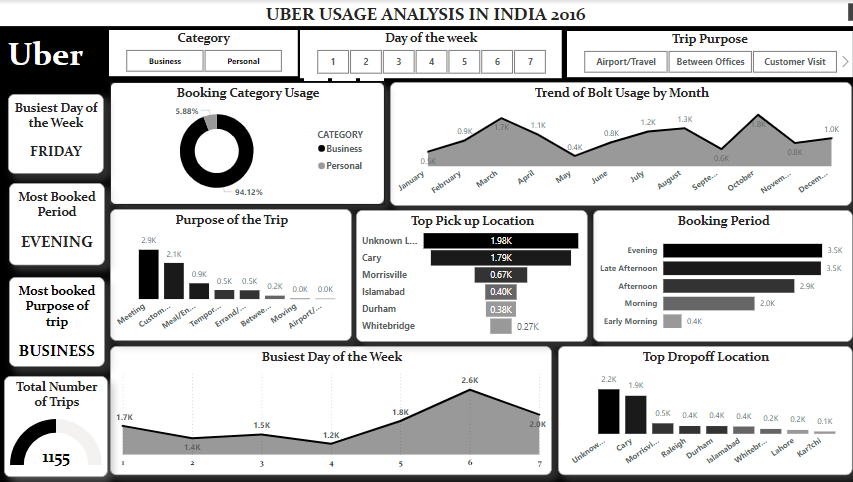

The dashboard page shown, as its layout file describes it:
{"tool":"powerbi","page":{"name":"Page 1","canvas":[1280,720],"ordinal":0},"visuals":[{"type":"lineChart","title":"Trend of Bolt Usage by Month","fields":{"Category":["UberDataset.START_DATE.1.Variation.Date Hierarchy.Month"],"Y":["Sum(UberDataset.MILES)"]},"box":[582.9,122.6,690.4,184.8],"z":0},{"type":"lineChart","title":"Busiest Day of the Week","fields":{"Y":["Sum(UberDataset.MILES)"],"Category":["UberDataset.Day_of_the_week"]},"box":[164.6,517.4,660.2,193.2],"z":1000},{"type":"donutChart","title":"Booking Category Usage","fields":{"Y":["Sum(UberDataset.MILES)"],"Category":["UberDataset.CATEGORY"]},"box":[164.6,122.6,409.9,183.1],"z":2000},{"type":"columnChart","title":"Purpose of the Trip","fields":{"Category":["UberDataset.PURPOSE"],"Y":["Sum(UberDataset.MILES)"]},"box":[164.6,312.4,361.2,196.5],"z":3000},{"type":"barChart","title":"Booking Period","fields":{"Category":["UberDataset.Trip_period"],"Y":["Sum(UberDataset.MILES)"]},"box":[885.2,314.1,388,196.5],"z":4000},{"type":"funnel","title":"Top Pick up Location","fields":{"Category":["UberDataset.START"],"Y":["Sum(UberDataset.MILES)"]},"box":[532.5,314.1,346,196.5],"z":5000},{"type":"lineStackedColumnComboChart","title":"Top Dropoff Location","fields":{"Category":["UberDataset.STOP"],"Y":["Sum(UberDataset.MILES)"]},"box":[833.2,517.4,440.1,193.2],"z":6000},{"type":"textbox","box":[0,0,1280,38.6],"z":7000},{"type":"slicer","title":"Trip Purpose","fields":{"Values":["UberDataset.PURPOSE"]},"box":[846.6,47,426.7,68.9],"z":8000},{"type":"slicer","title":"Day of the week","fields":{"Values":["UberDataset.Day_of_the_week"]},"box":[448.5,45.4,391.4,72.2],"z":9000},{"type":"slicer","title":"Category","fields":{"Values":["UberDataset.CATEGORY"]},"box":[162.9,45.4,282.2,68.9],"z":10000},{"type":"textbox","box":[0,47,136.1,95.7],"z":11000},{"type":"textbox","box":[11.8,141.1,142.8,119.3],"z":12000},{"type":"textbox","box":[13.4,273.8,142.8,122.6],"z":13000},{"type":"gauge","title":"Total Miles","fields":{"Y":["Sum(UberDataset.MILES)"]},"box":[11.8,566.1,142.8,144.5],"z":14000},{"type":"textbox","box":[13.4,413.2,142.8,134.4],"z":15000},{"type":"gauge","title":"Total Number of Trips","fields":{"Y":["Count(UberDataset)"]},"box":[6,561.7,155.4,150.9],"z":16000}]}

Visuals, with their boxes in screenshot pixels (x1, y1, x2, y2), scaled from the page's 1280x720 canvas onto the 853x482 screenshot:
"Trend of Bolt Usage by Month" lineChart: [388,82,849,206]
"Busiest Day of the Week" lineChart: [110,346,550,476]
"Booking Category Usage" donutChart: [110,82,383,205]
"Purpose of the Trip" columnChart: [110,209,350,341]
"Booking Period" barChart: [590,210,848,342]
"Top Pick up Location" funnel: [355,210,585,342]
"Top Dropoff Location" lineStackedColumnComboChart: [555,346,849,476]
textbox: [0,0,852,26]
"Trip Purpose" slicer: [564,31,849,78]
"Day of the week" slicer: [299,30,560,79]
"Category" slicer: [109,30,297,77]
textbox: [0,31,91,96]
textbox: [8,94,103,174]
textbox: [9,183,104,265]
"Total Miles" gauge: [8,379,103,476]
textbox: [9,277,104,367]
"Total Number of Trips" gauge: [4,376,108,477]
